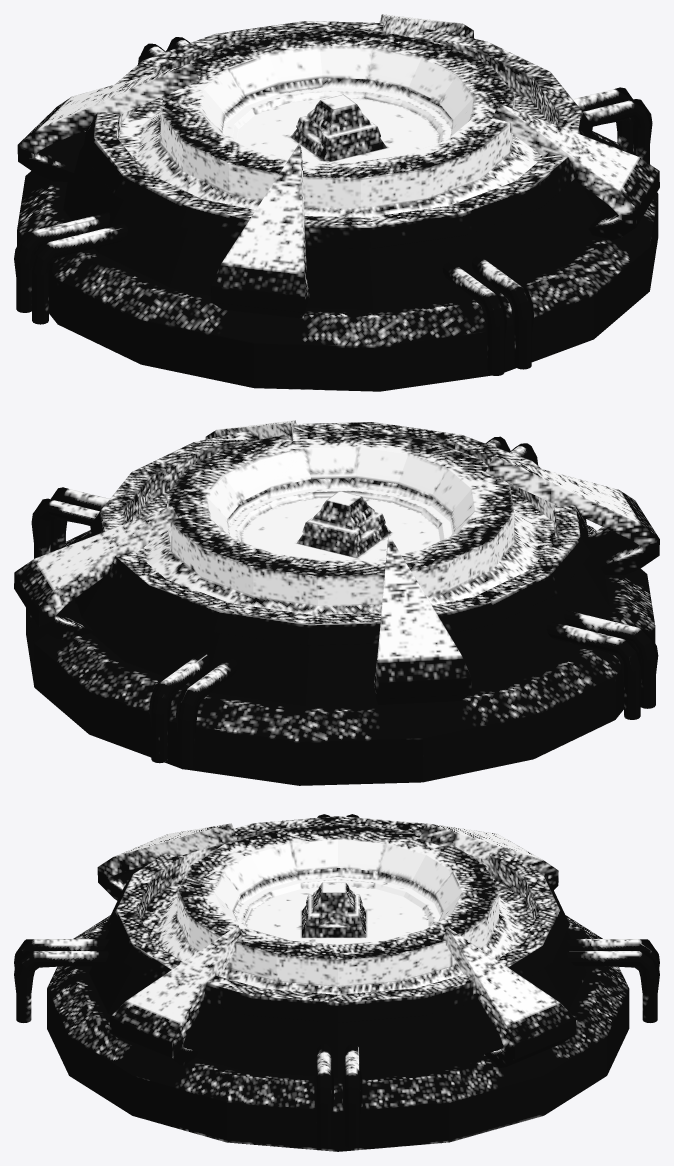
The model's file is mainBeamBase.glb.
3 views of the same model, one above another, from view 1: azimuth 30°, elevation 25°; view 2: azimuth 150°, elevation 25°; view 3: azimuth 270°, elevation 25° (orthographic). The views are drawn at different scales.
Visible parts, largest first — view 1: Icosphere.001; view 2: Icosphere.001; view 3: Icosphere.001.
Boxes of the visible parts, bbox=[...] form: Icosphere.001: bbox=[14, 14, 659, 391]; Icosphere.001: bbox=[14, 420, 659, 785]; Icosphere.001: bbox=[14, 814, 659, 1151].
Size of the model in its own units: 14.83 by 4.2 by 14.86.
Materials: 1 (1 with a texture image).
